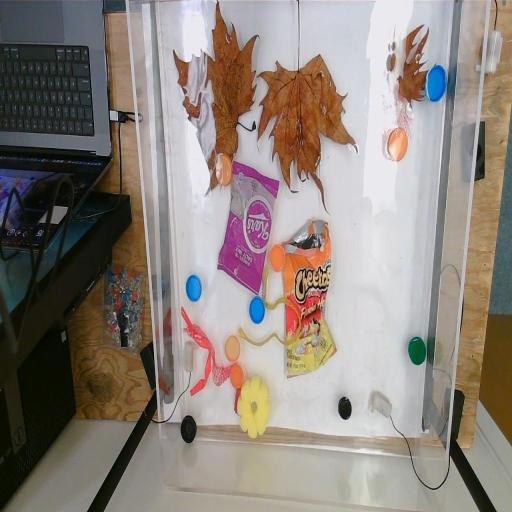Bottle Cap: (424, 62, 448, 102), (386, 126, 408, 162), (407, 334, 429, 368), (214, 152, 233, 186), (268, 242, 286, 274), (180, 414, 196, 446), (249, 294, 265, 326), (225, 334, 241, 364), (228, 360, 244, 390), (186, 274, 202, 302), (337, 396, 353, 422)
Cone Cap: (234, 388, 241, 416)
Leaf: (255, 0, 358, 212), (172, 0, 256, 194), (382, 20, 430, 110)
Netting: (184, 322, 238, 390), (388, 98, 416, 140)
Plastic Bag: (276, 218, 336, 378), (217, 162, 281, 298)
Plastic Strand: (238, 264, 302, 348), (180, 306, 212, 396)
Sponge: (239, 376, 271, 440)
